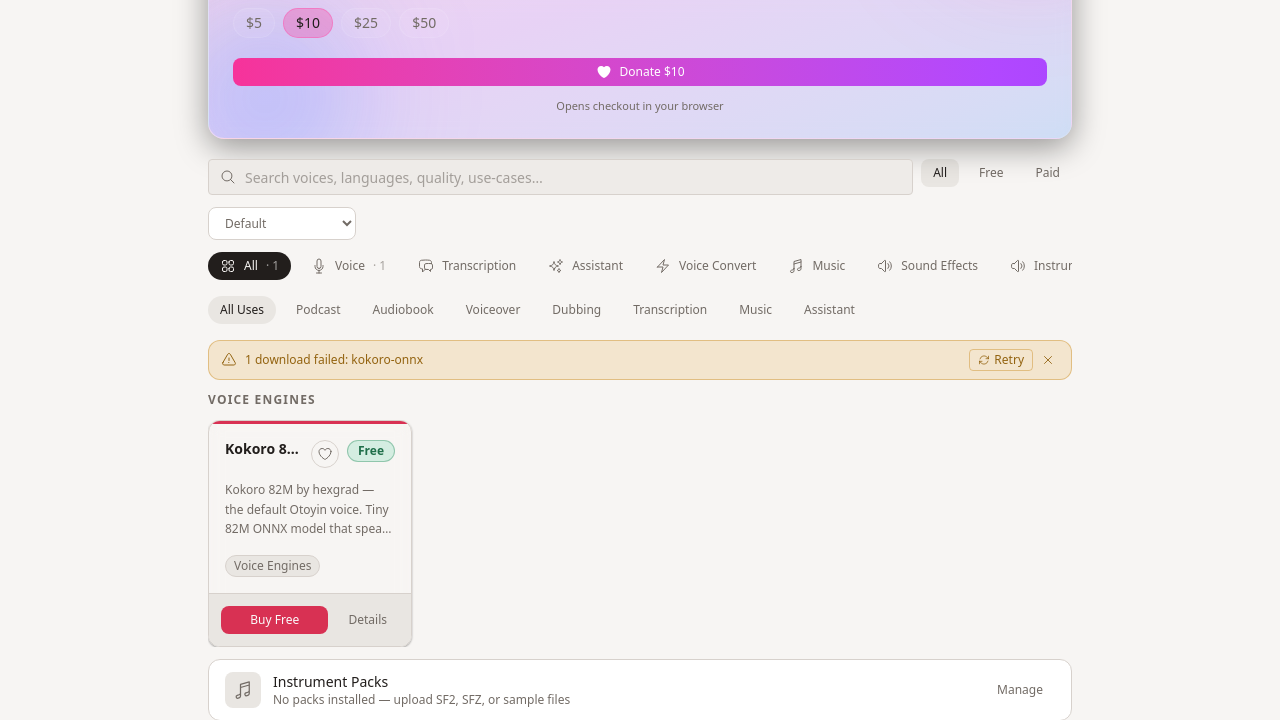
Test: StorePage failed-download hint + retry › Retry re-triggers the failed download through the download mutation
(page scrolled)
Expected: the text "1 download failed: kokoro-onnx" is shown, [245, 352, 423, 368]
Click the button "Retry".
click(1001, 360)  # box [969, 349, 1033, 371]
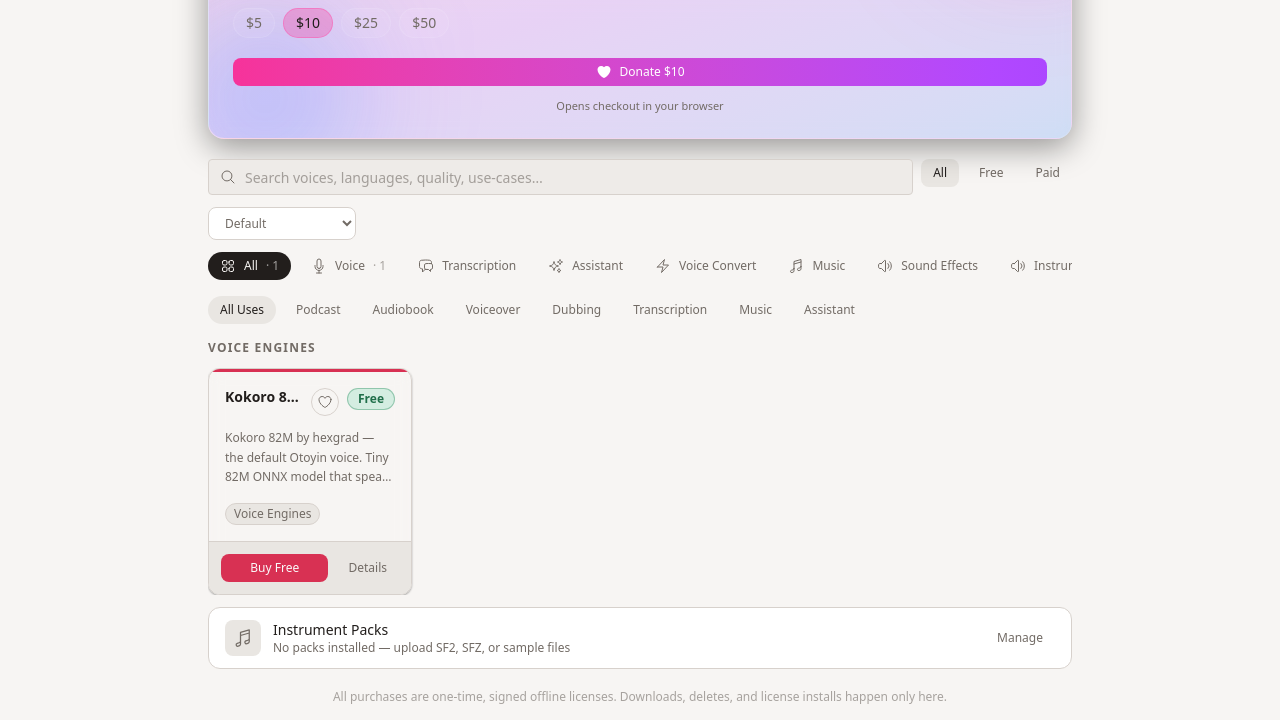
Result: the text "1 download failed: kokoro-onnx" is gone
